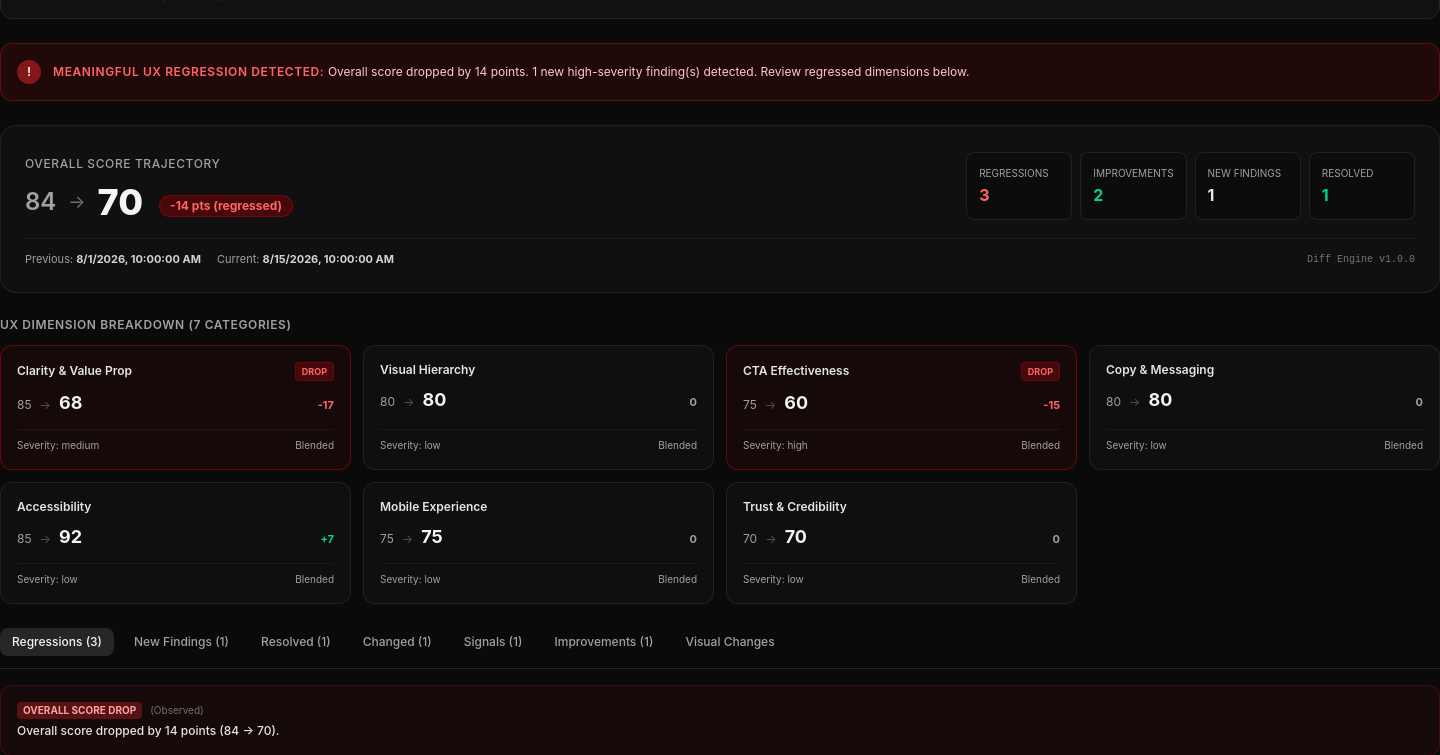
Test case: <ReportComparisonView /> › switches to Visual Changes tab when clicked
This screenshot has width=1440, height=755.
Step 1. Click the button with test id "tab-visual-changes" → (730, 642), box top-left (673, 628), bottom-right (787, 656)
(page scrolled)
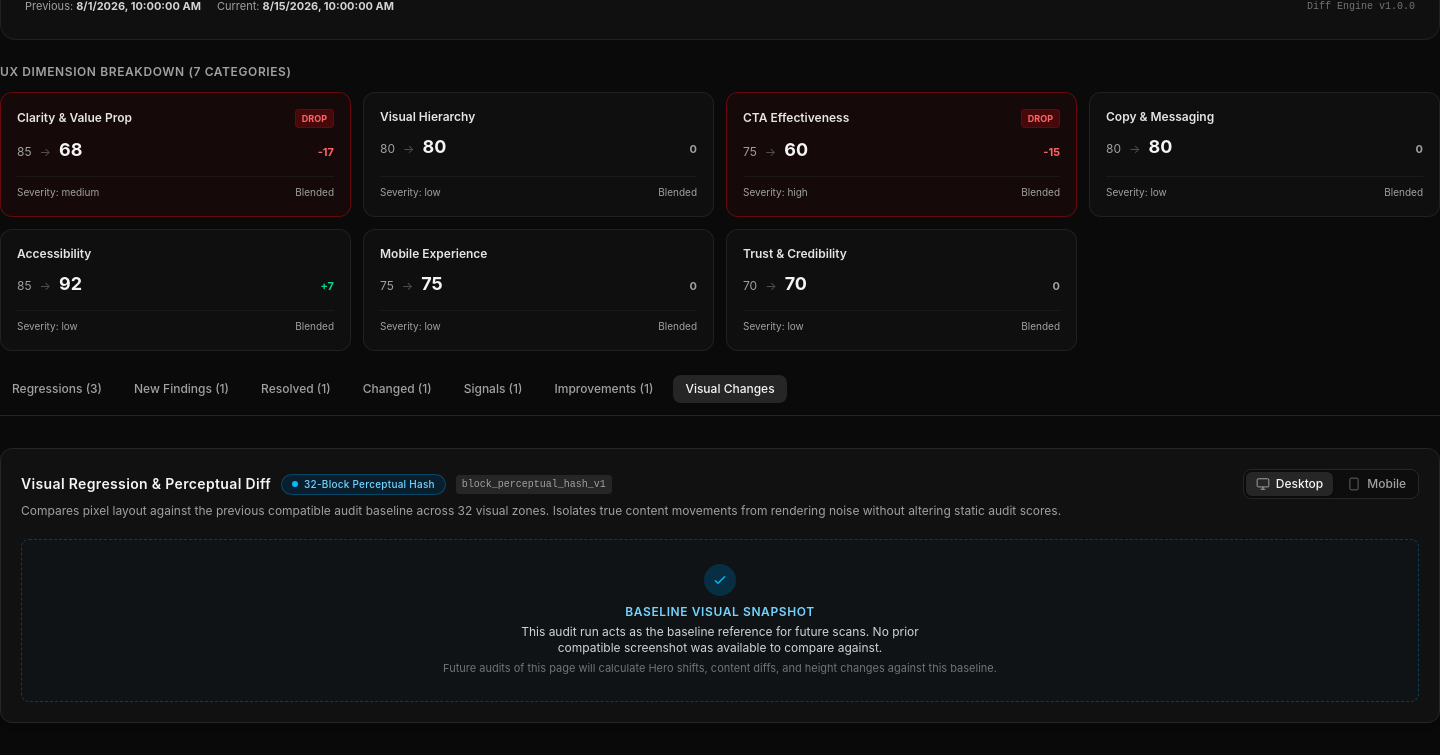
Check: the element with test id "visual-changes-tab-content" is shown, box top-left (0, 448), bottom-right (1439, 722)
